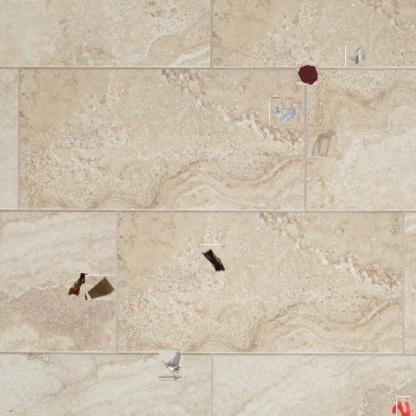dirty: (308, 128, 338, 158), (158, 349, 182, 381), (199, 244, 225, 273), (85, 275, 115, 300), (271, 99, 298, 126), (66, 270, 90, 298), (345, 46, 367, 67)
liquid: (296, 63, 318, 85), (393, 397, 413, 416)
